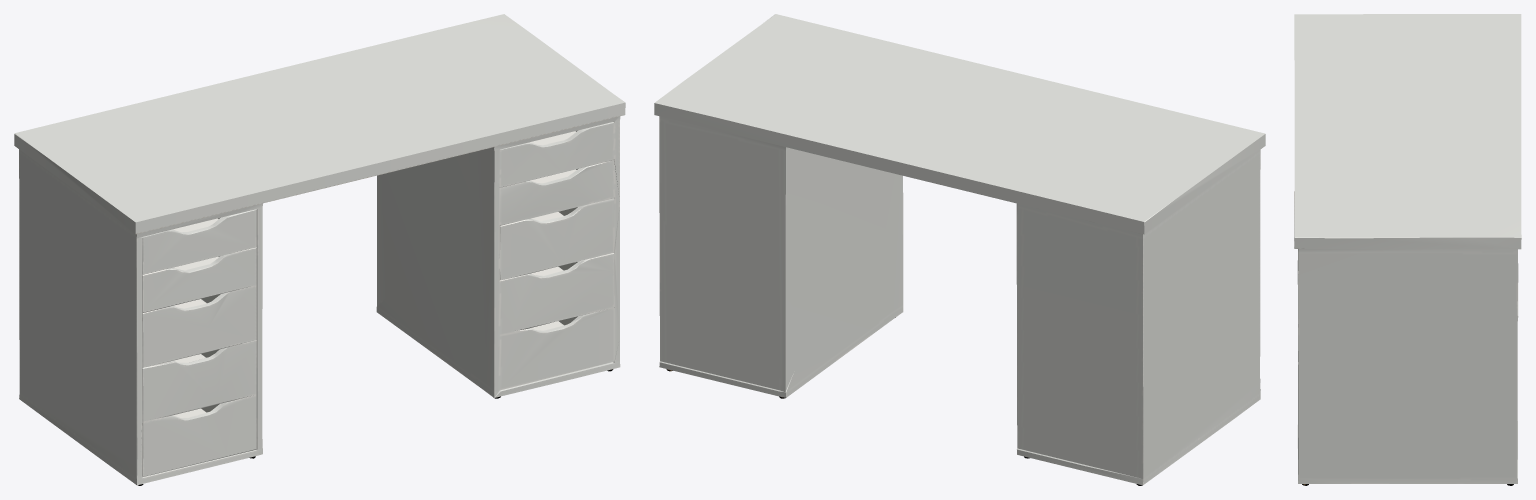
3 views of the same model, side by side, from view 1: azimuth 30°, elevation 25°; view 2: azimuth 150°, elevation 25°; view 3: azimuth 270°, elevation 25° (orthographic). The views are drawn at different scales.
Parts seen in each view (by area): view 1: ProcessedMeshNode; view 2: ProcessedMeshNode; view 3: ProcessedMeshNode.
Boxes of the visible parts, x1=… form: ProcessedMeshNode: x1=14, y1=14, x2=625, y2=485; ProcessedMeshNode: x1=654, y1=14, x2=1265, y2=485; ProcessedMeshNode: x1=1294, y1=14, x2=1521, y2=485.
Size of the model in its own units: 1.4 by 0.7352 by 0.6006.
1 material, 1 textured.
